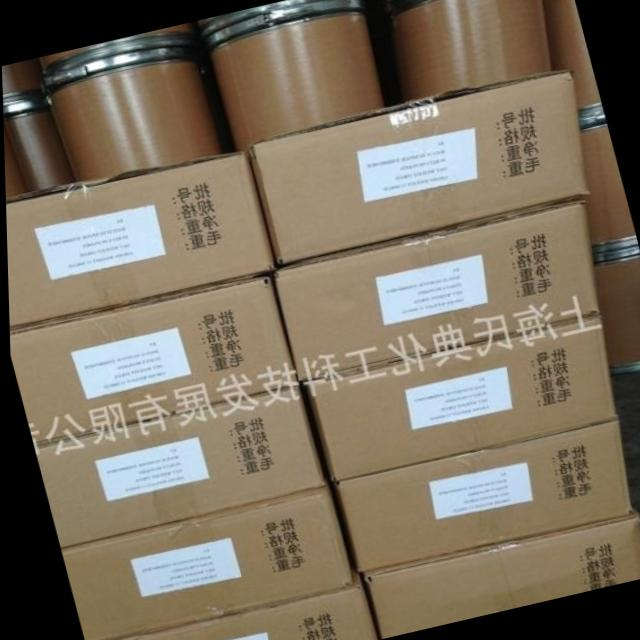box: (248, 70, 585, 267), (270, 197, 598, 380), (301, 314, 614, 481), (8, 274, 296, 444), (31, 384, 323, 548), (5, 150, 274, 327), (57, 485, 348, 640), (333, 420, 628, 570), (360, 512, 640, 638), (115, 575, 373, 640)
